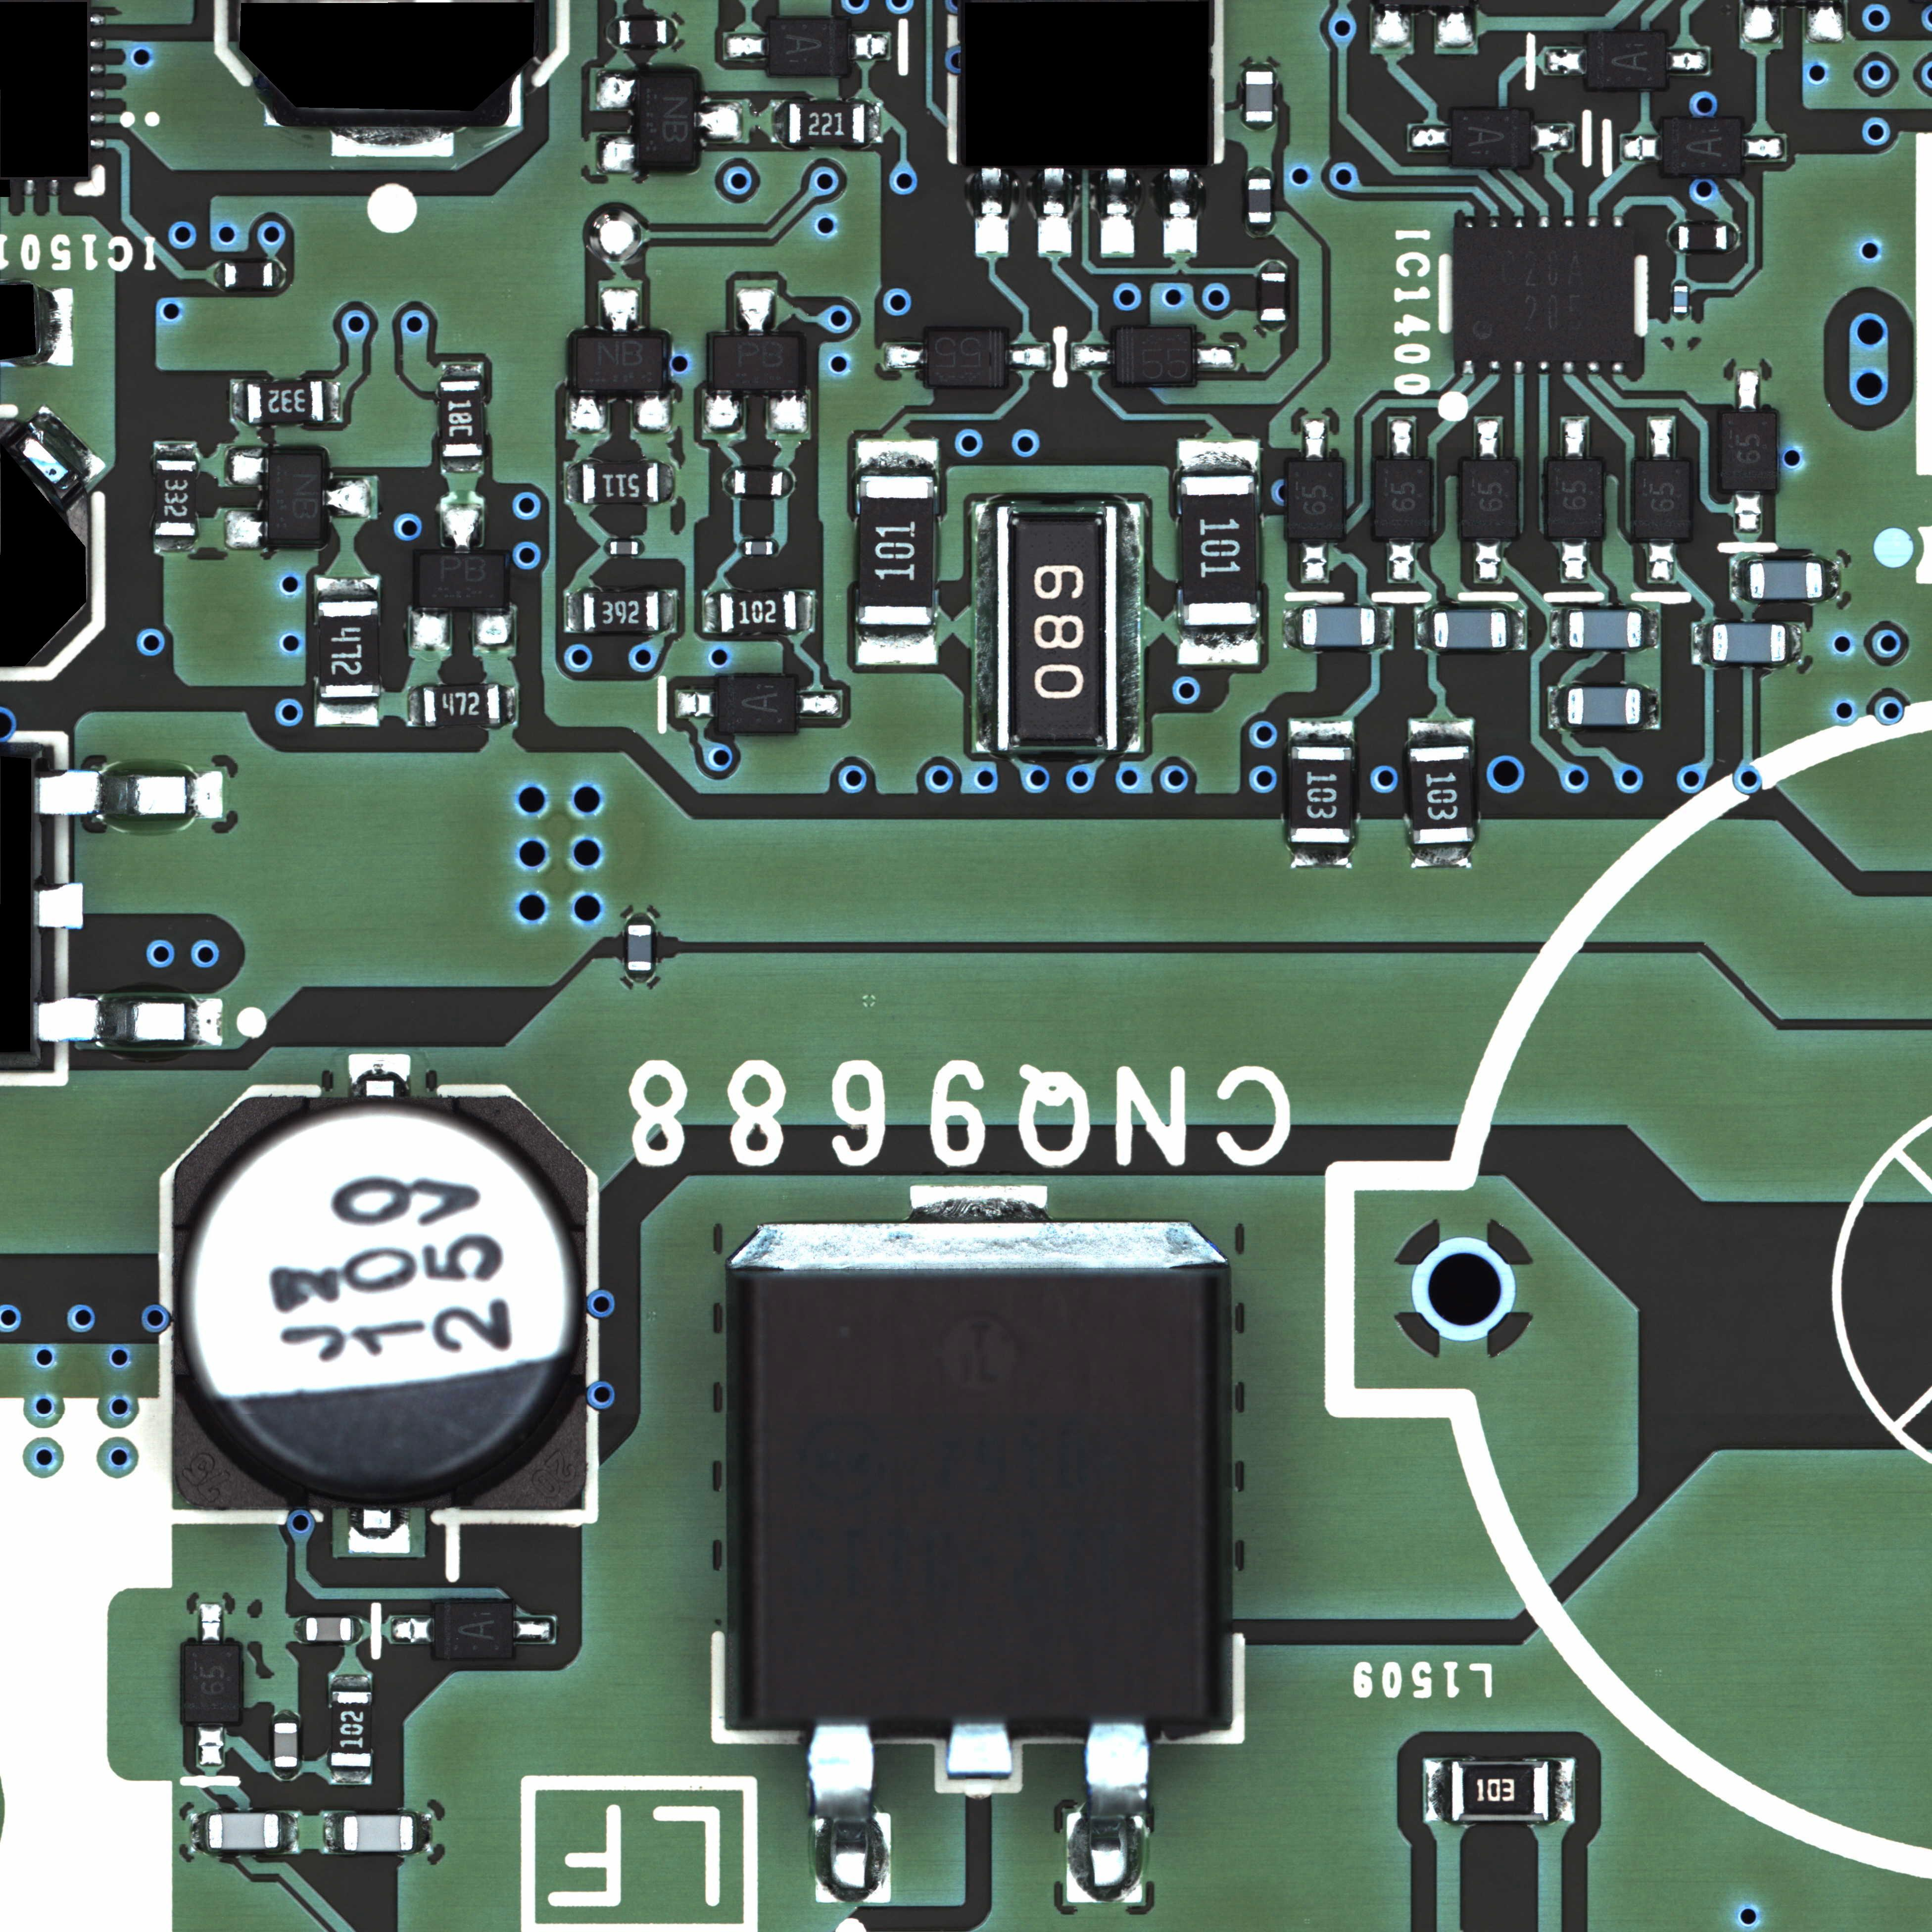Package: (729, 1221, 1231, 1723), (175, 1097, 589, 1511), (998, 499, 1116, 750), (1454, 228, 1633, 361), (1178, 476, 1258, 625), (860, 476, 932, 625), (1290, 747, 1353, 842), (1410, 747, 1472, 844), (318, 602, 380, 697), (1451, 1760, 1548, 1821), (639, 76, 694, 163), (419, 554, 506, 607), (715, 336, 801, 389), (269, 455, 322, 540), (577, 338, 663, 389), (1375, 462, 1431, 540), (1720, 414, 1776, 492), (435, 1601, 511, 1658), (717, 678, 794, 732), (1286, 462, 1341, 540), (1463, 460, 1518, 538), (1546, 460, 1601, 538), (1635, 462, 1690, 540), (186, 1644, 239, 1723), (768, 19, 847, 73), (929, 331, 1005, 386), (1454, 110, 1530, 165), (1587, 34, 1665, 87), (1663, 119, 1741, 172), (1116, 329, 1192, 382), (441, 382, 483, 456), (331, 1691, 372, 1767), (789, 103, 863, 143), (584, 462, 658, 502), (156, 460, 195, 536), (248, 382, 324, 421), (720, 593, 796, 632), (425, 685, 499, 724), (582, 593, 658, 630), (207, 1812, 280, 1849), (1302, 609, 1375, 646), (1569, 610, 1642, 648), (1713, 625, 1785, 662), (1750, 563, 1822, 600), (1568, 688, 1640, 725), (1435, 612, 1506, 649), (343, 1815, 412, 1851), (1246, 71, 1274, 120), (225, 262, 272, 287), (734, 471, 782, 495), (621, 21, 667, 46), (1679, 225, 1725, 249), (1261, 272, 1284, 320), (272, 1723, 297, 1767), (306, 1617, 352, 1640), (628, 924, 651, 970), (1249, 179, 1272, 223), (745, 541, 773, 556), (610, 541, 637, 556), (1674, 287, 1686, 313)
Solder: (809, 1723, 892, 1904), (1067, 1723, 1148, 1904), (35, 773, 223, 821), (37, 998, 221, 1046), (28, 403, 106, 483), (1118, 502, 1141, 752), (975, 502, 996, 752), (909, 1185, 1047, 1221), (331, 126, 455, 157), (947, 1721, 1014, 1780), (1162, 170, 1198, 257), (1102, 168, 1136, 258), (1178, 626, 1260, 663), (858, 626, 938, 663), (858, 441, 939, 476), (1039, 168, 1072, 253), (977, 168, 1008, 255), (347, 1053, 410, 1095), (347, 1511, 410, 1553), (1180, 441, 1260, 474), (39, 287, 73, 366), (441, 504, 485, 554), (35, 885, 83, 929), (322, 478, 373, 518), (694, 101, 741, 143), (472, 609, 515, 655), (736, 288, 777, 336), (568, 391, 610, 435), (704, 391, 745, 437), (315, 699, 380, 727), (225, 510, 267, 552), (409, 609, 451, 651), (602, 288, 639, 336), (632, 391, 672, 433), (596, 133, 637, 175), (768, 391, 809, 433), (1371, 7, 1412, 50), (1437, 5, 1476, 50), (596, 69, 637, 110), (225, 446, 267, 485), (1426, 1759, 1451, 1822), (1410, 720, 1474, 745), (1290, 720, 1353, 745), (1550, 1760, 1575, 1822), (1410, 844, 1472, 869), (1290, 844, 1352, 869), (315, 577, 380, 600), (1743, 5, 1782, 42), (1806, 7, 1845, 42), (1072, 343, 1116, 370), (1532, 124, 1573, 152), (391, 1617, 433, 1644), (198, 1723, 225, 1766), (1667, 48, 1709, 74), (1621, 134, 1663, 161), (1410, 124, 1453, 150), (849, 34, 888, 62), (1007, 343, 1051, 368), (796, 692, 840, 717), (1743, 134, 1783, 161), (513, 1617, 556, 1642), (725, 34, 768, 58), (885, 343, 927, 368), (1194, 343, 1237, 368), (1649, 418, 1674, 460), (1562, 418, 1587, 460), (1476, 418, 1500, 460), (1389, 418, 1414, 460), (1302, 418, 1327, 460), (678, 692, 717, 718), (1736, 492, 1762, 531), (198, 1603, 223, 1644), (1649, 541, 1674, 582), (1389, 540, 1414, 580), (1302, 540, 1327, 580), (1545, 50, 1587, 73), (1737, 370, 1760, 412), (1562, 540, 1587, 579), (1476, 540, 1500, 579), (1730, 557, 1750, 602), (280, 1810, 299, 1852), (1693, 621, 1713, 663), (1507, 609, 1527, 651), (1548, 686, 1568, 727), (499, 683, 517, 727), (189, 1810, 207, 1854), (1550, 610, 1569, 649), (324, 380, 341, 423), (324, 1812, 341, 1854), (1822, 557, 1840, 600), (1284, 607, 1302, 649), (865, 99, 881, 145), (156, 442, 196, 460), (414, 1813, 432, 1854), (1642, 609, 1660, 649), (771, 99, 787, 143), (442, 363, 481, 380), (442, 456, 485, 472), (566, 462, 582, 504), (658, 462, 674, 504), (1642, 686, 1658, 729), (1787, 623, 1803, 665), (1376, 607, 1392, 649), (796, 593, 814, 630), (156, 536, 196, 552), (660, 591, 676, 632), (566, 591, 582, 632), (407, 685, 423, 725), (331, 1674, 372, 1690), (331, 1767, 372, 1783), (704, 593, 720, 633), (1417, 609, 1433, 649), (232, 380, 246, 423), (1249, 223, 1274, 239), (607, 18, 619, 46), (272, 262, 285, 287), (272, 1709, 297, 1721), (274, 1767, 299, 1780), (1261, 322, 1286, 334), (667, 18, 678, 46), (784, 469, 794, 497), (1246, 122, 1274, 133), (354, 1615, 364, 1642), (1260, 260, 1286, 271), (1729, 225, 1739, 251), (212, 262, 223, 287), (628, 971, 653, 982), (294, 1615, 304, 1640), (46, 180, 62, 196), (628, 913, 651, 924), (724, 467, 732, 494), (1249, 166, 1270, 177), (90, 12, 106, 27), (90, 37, 106, 51), (90, 111, 106, 126), (1668, 225, 1677, 249), (90, 62, 104, 76), (90, 87, 104, 101), (90, 136, 104, 150), (1246, 64, 1272, 71), (23, 180, 35, 195), (1587, 216, 1598, 230), (1564, 361, 1575, 375), (1537, 361, 1548, 375), (1514, 361, 1525, 375), (1490, 361, 1500, 375), (1564, 216, 1575, 228), (1537, 216, 1548, 228), (1514, 216, 1525, 228), (1490, 216, 1500, 228), (1587, 363, 1598, 375), (1614, 361, 1622, 375), (1465, 361, 1474, 375), (603, 540, 610, 556), (1614, 216, 1622, 228), (1465, 216, 1474, 228), (639, 541, 646, 556), (738, 540, 745, 554), (1674, 315, 1688, 322), (1674, 280, 1686, 287), (773, 540, 778, 554)
